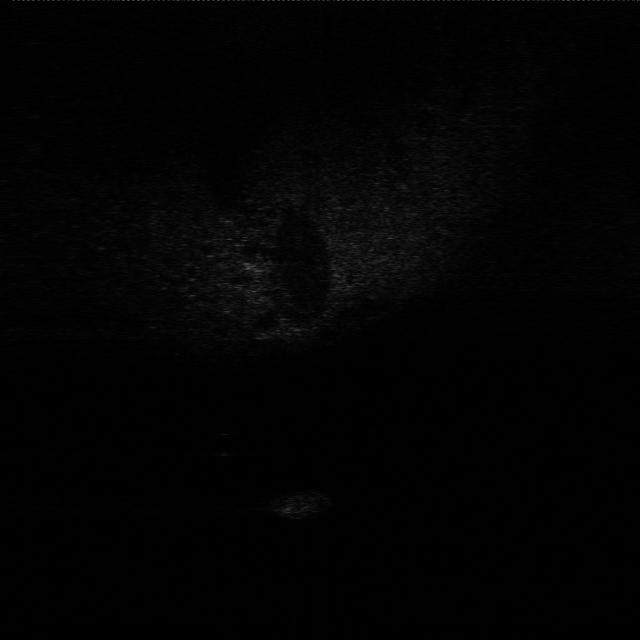ball: (202, 428, 246, 459)
circle cage: (264, 485, 352, 523)
